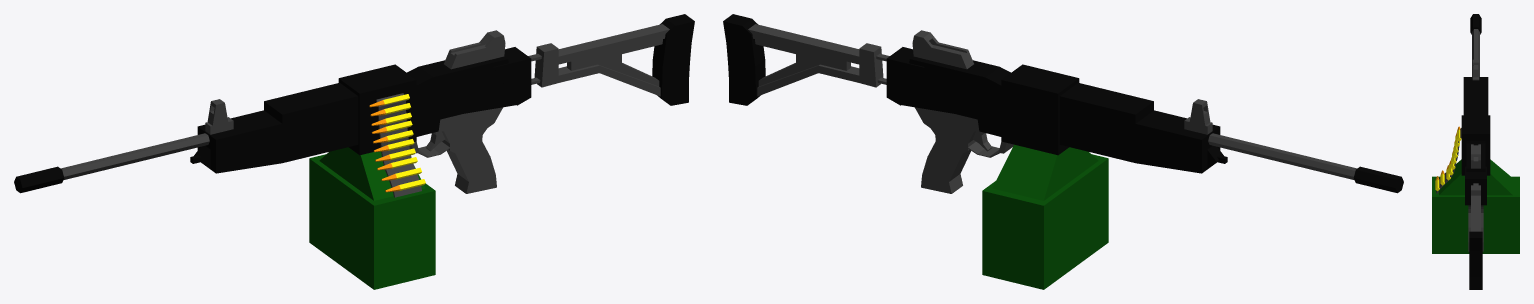
Rendered from negev.fbx.
3 views of the same model, side by side, from view 1: azimuth 30°, elevation 25°; view 2: azimuth 150°, elevation 25°; view 3: azimuth 270°, elevation 25° (orthographic). The views are drawn at different scales.
Parts seen in each view (by area): view 1: 큐브; view 2: 큐브; view 3: 큐브.
Part boxes in pixels (<box>): 큐브: <box>14,14,694,289</box>; 큐브: <box>723,14,1403,289</box>; 큐브: <box>1432,14,1519,289</box>.
Bounding box in the file's own units: 424 × 117 × 70.93.
